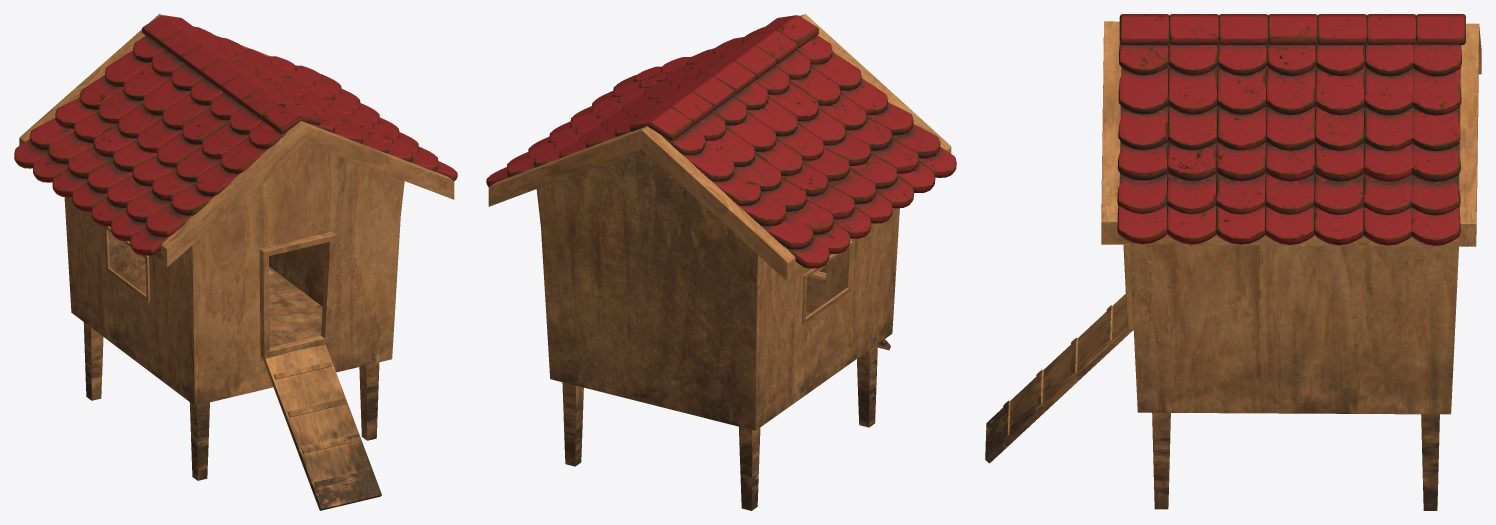
Rendered from chickencoop.glb.
The picture shows the model from 3 angles, left to right: view 1: azimuth 30°, elevation 25°; view 2: azimuth 150°, elevation 25°; view 3: azimuth 270°, elevation 25°; orthographic projection. The views are drawn at different scales.
Visible parts, largest first — view 1: chicken_coop_Geo; view 2: chicken_coop_Geo; view 3: chicken_coop_Geo.
Boxes of the visible parts, x1,y1,x2,y2 form: chicken_coop_Geo: (14,14,457,510); chicken_coop_Geo: (486,14,956,510); chicken_coop_Geo: (985,14,1481,510).
Size of the model in its own units: 188 by 198 by 203.
Materials: 2 (2 with a texture image).
